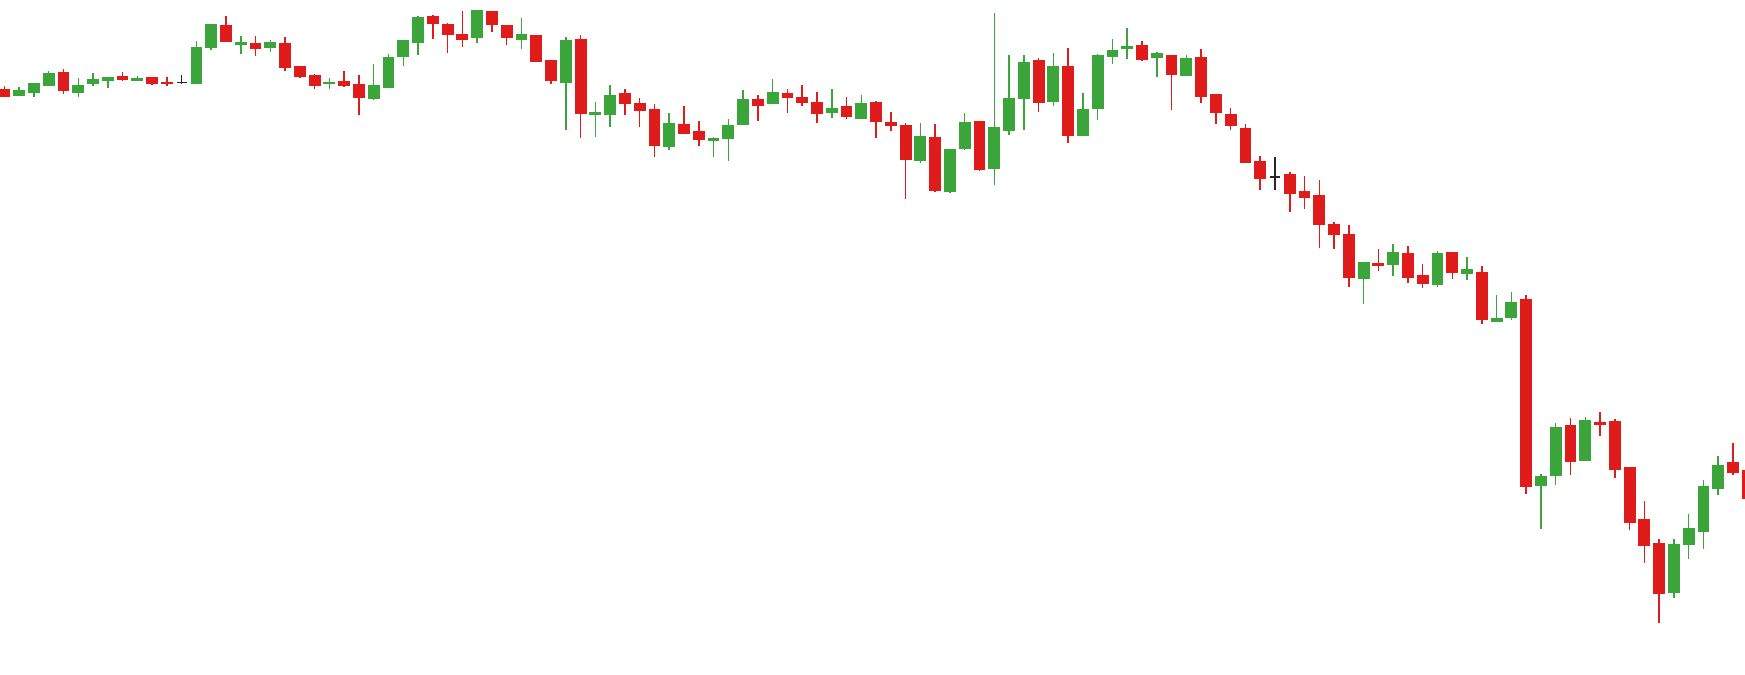sell: (1018, 26, 1150, 103)
